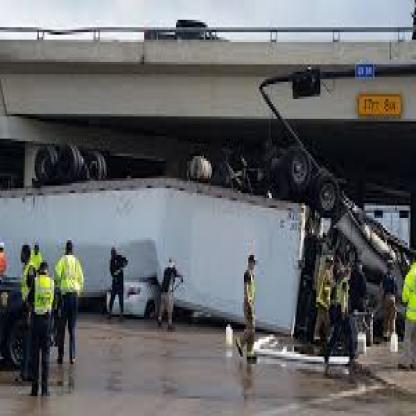accident: (2, 135, 386, 357)
